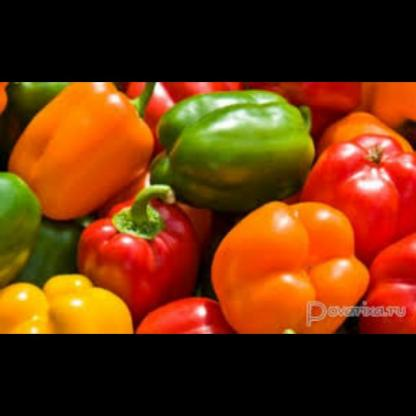bell pepper: (209, 197, 370, 333), (153, 83, 322, 211), (3, 81, 153, 217), (77, 188, 204, 314), (302, 130, 415, 246), (0, 269, 135, 332), (324, 81, 415, 149), (366, 231, 416, 333), (0, 160, 41, 282), (134, 288, 236, 332)
